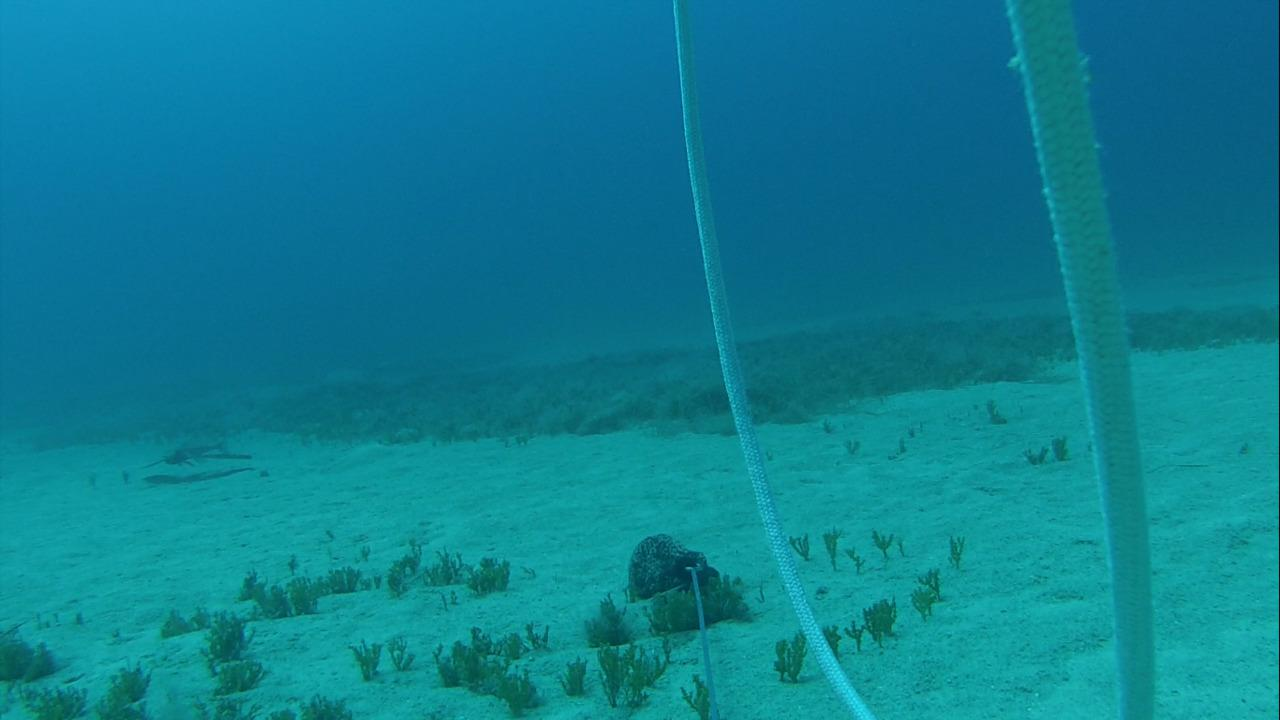dactylopterus: (140, 428, 253, 470)
